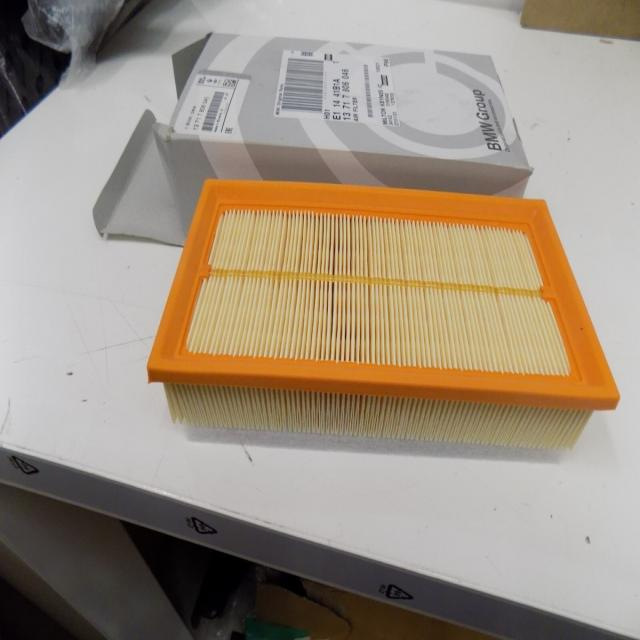air_filter: (147, 170, 627, 448)
